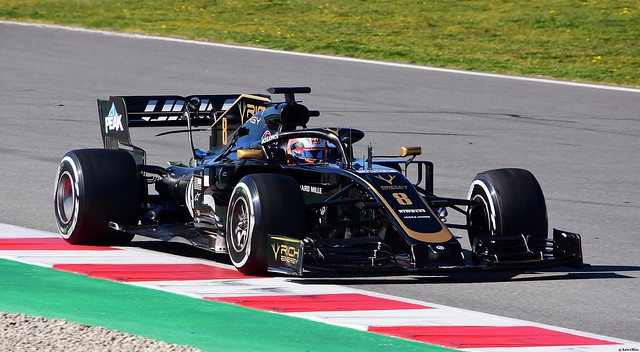F1 Car: (46, 73, 570, 286)
